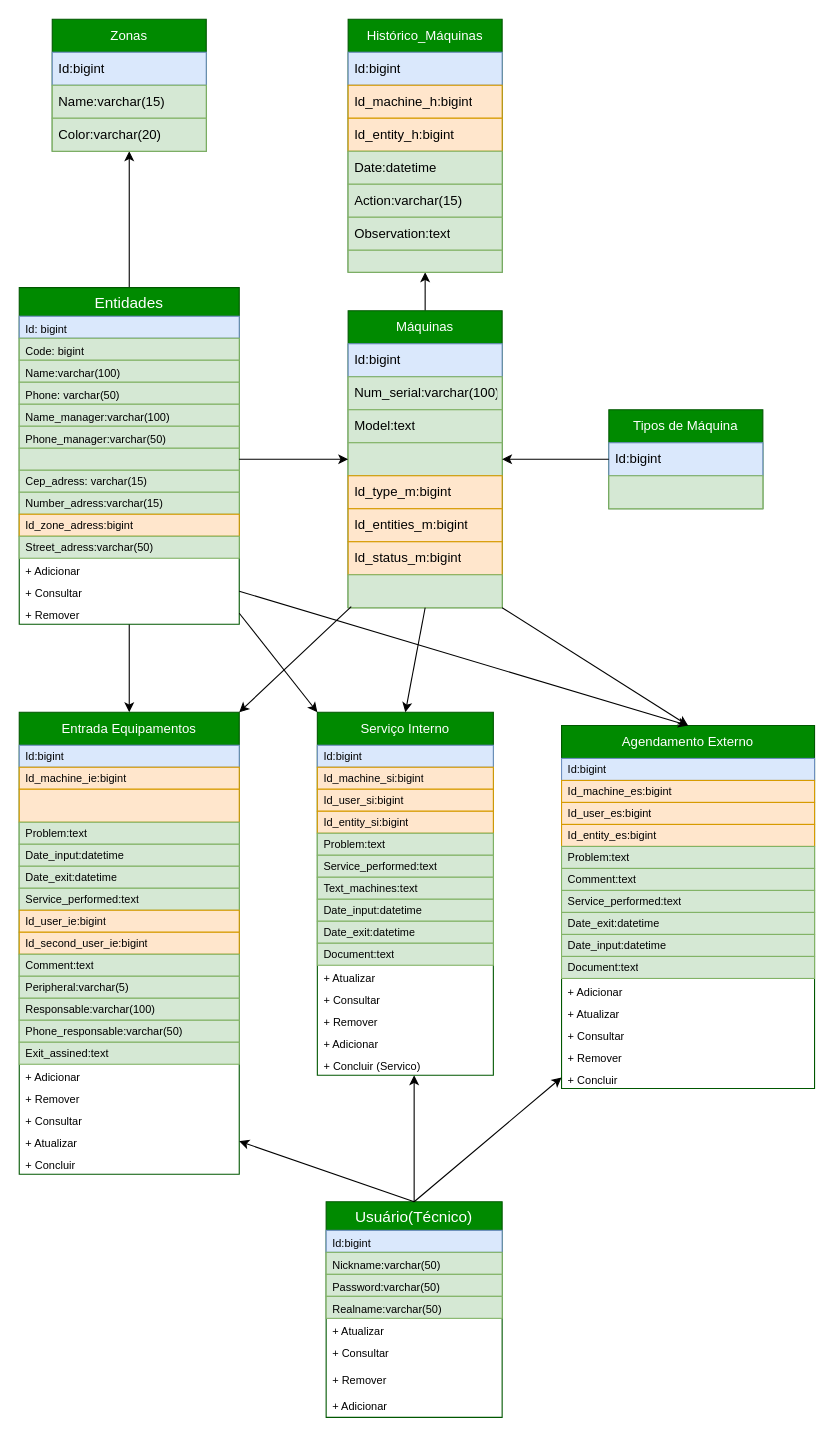
The diagram is 834 pixels wide and 1440 high, and some of its shapes have lost their labels. The centre of each missing label's shape, as x and y in pixels:
"Deactivate_doc:text" belongs at pixel 424 260.
"Description:text" belongs at pixel 424 459.
"District_adress:varchar(50)" belongs at pixel 128 458.
"Id_entity_ie:bigint" belongs at pixel 128 805.
"maintenace:tinyint" belongs at pixel 424 591.
"Name:varchar(50)" belongs at pixel 685 492.
